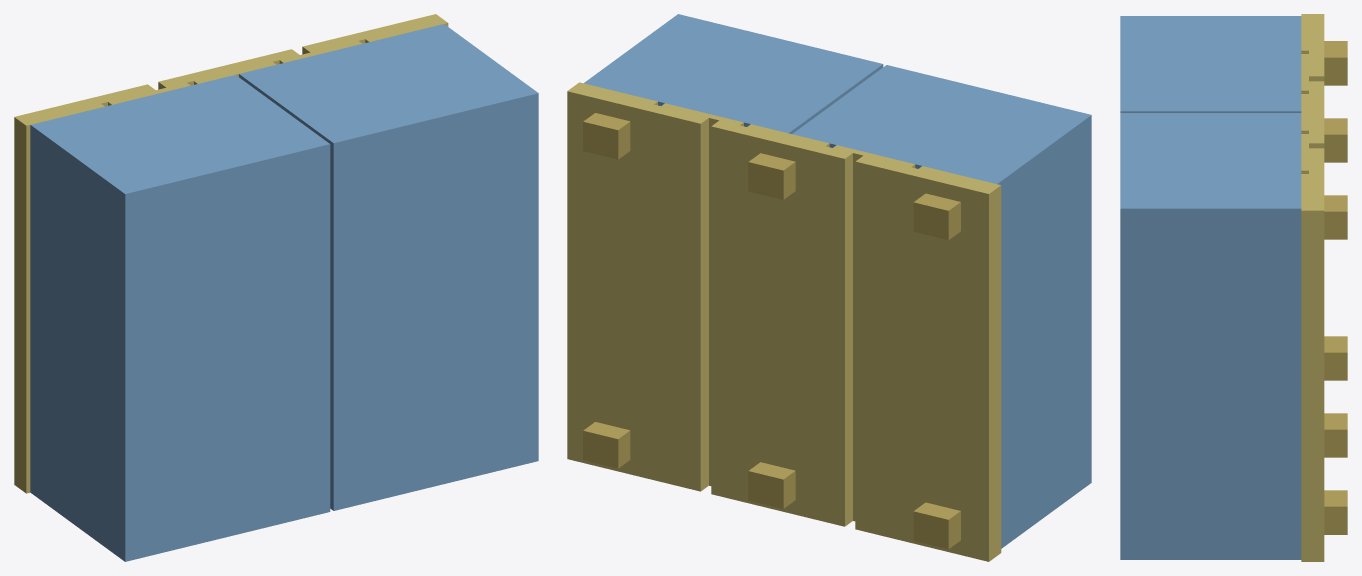
The model's file is pallet_TG1LF02110.glb.
3 views of the same model, side by side, from view 1: azimuth 30°, elevation 25°; view 2: azimuth 150°, elevation 25°; view 3: azimuth 270°, elevation 25° (orthographic). The views are drawn at different scales.
Parts seen in each view (by area): view 1: world; view 2: world; view 3: world.
Part boxes in pixels (x1,y1,x2,y2): world: (14, 14, 538, 561); world: (567, 14, 1091, 561); world: (1120, 14, 1347, 561).
Size of the model in its own units: 120 by 100 by 58.67.
